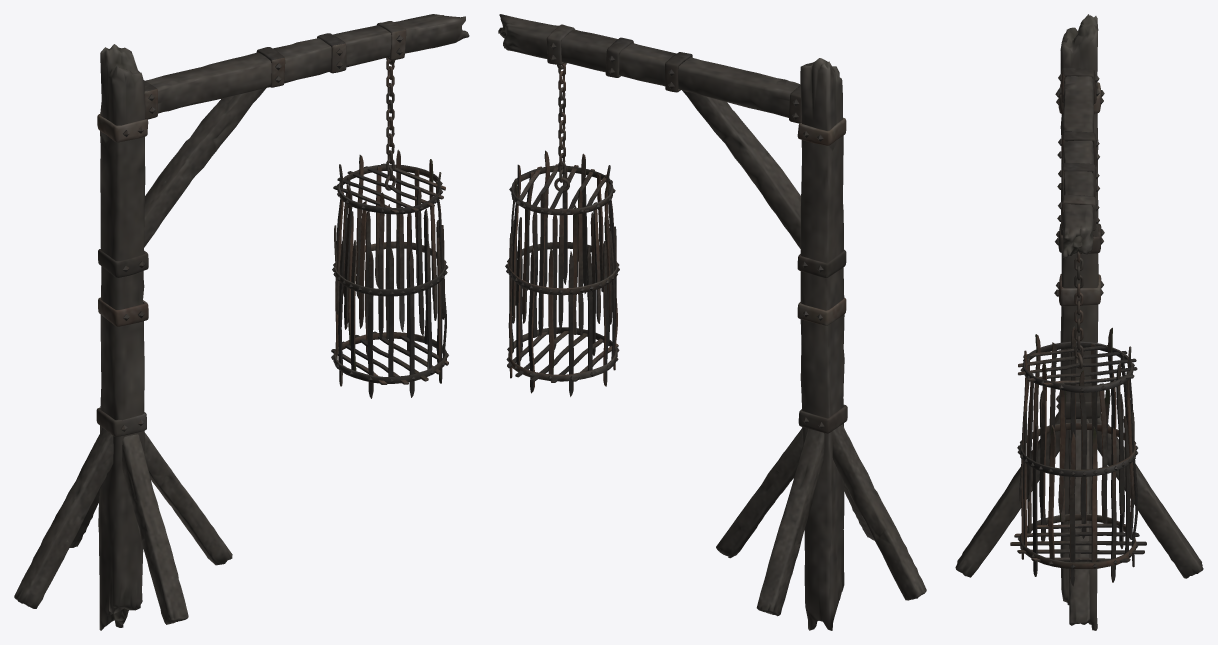
File: Cage_01.fbx
3 renders of one model, left to right at view 1: azimuth 30°, elevation 25°; view 2: azimuth 150°, elevation 25°; view 3: azimuth 270°, elevation 25°, orthographic. The views are drawn at different scales.
Parts seen in each view (by area): view 1: Cage_01_WoodStand, Cage_01, Cage_01_Braces, Cage_01_Chain; view 2: Cage_01_WoodStand, Cage_01, Cage_01_Braces, Cage_01_Chain; view 3: Cage_01, Cage_01_WoodStand, Cage_01_Braces, Cage_01_Chain.
Part boxes in pixels (x1,y1,x2,y2): Cage_01_WoodStand: [14, 14, 469, 630]; Cage_01: [331, 149, 448, 398]; Cage_01_Braces: [96, 21, 406, 436]; Cage_01_Chain: [384, 57, 395, 190]; Cage_01_WoodStand: [498, 14, 926, 630]; Cage_01: [505, 150, 619, 396]; Cage_01_Braces: [546, 24, 847, 433]; Cage_01_Chain: [554, 62, 569, 191]; Cage_01: [1010, 326, 1146, 586]; Cage_01_WoodStand: [955, 14, 1203, 630]; Cage_01_Braces: [1054, 67, 1104, 419]; Cage_01_Chain: [1074, 252, 1083, 369].
Size of what is drawn, in the model's own units: 578 by 730 by 269.
